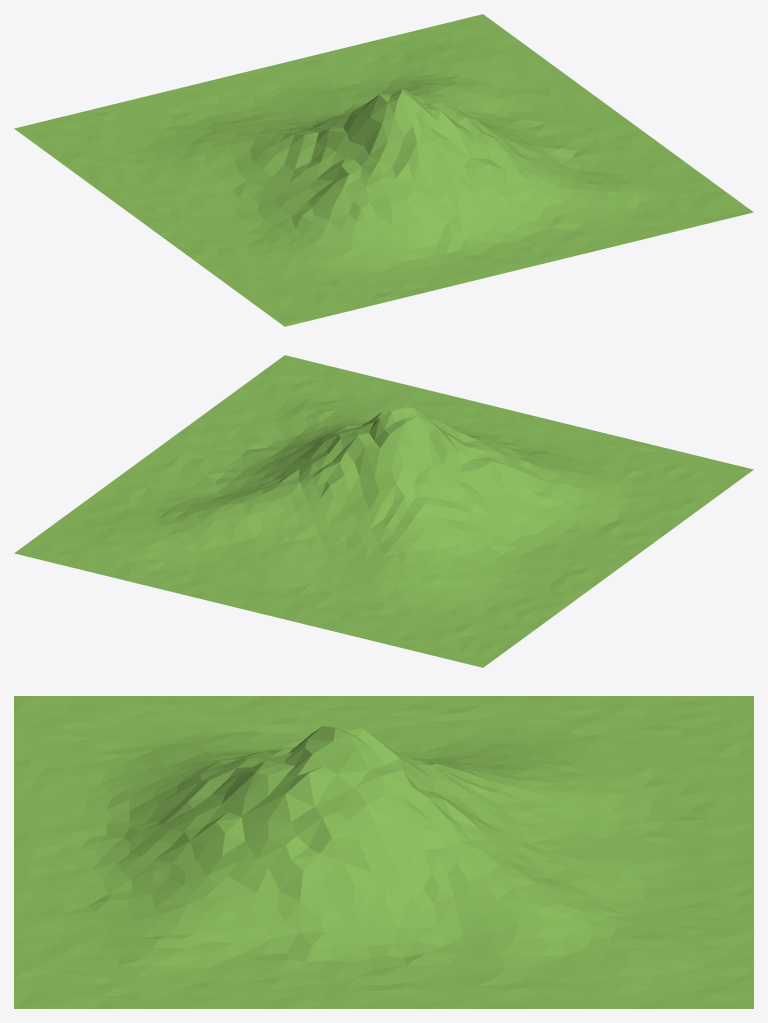
File: MT_Terrain_L_a_41_LOD.fbx
The picture shows the model from 3 angles, top to bottom: view 1: azimuth 30°, elevation 25°; view 2: azimuth 150°, elevation 25°; view 3: azimuth 270°, elevation 25°; orthographic projection. The views are drawn at different scales.
Parts seen in each view (by area): view 1: MT_Terrain_L_a_41_LOD0; view 2: MT_Terrain_L_a_41_LOD0; view 3: MT_Terrain_L_a_41_LOD0.
Part boxes in pixels (left/top/right/bottom): MT_Terrain_L_a_41_LOD0: left=14, top=14, right=753, bottom=326; MT_Terrain_L_a_41_LOD0: left=14, top=355, right=753, bottom=667; MT_Terrain_L_a_41_LOD0: left=14, top=696, right=753, bottom=1008.
Size of what is drawn, in the model's own units: 10000 by 1849 by 10000.
